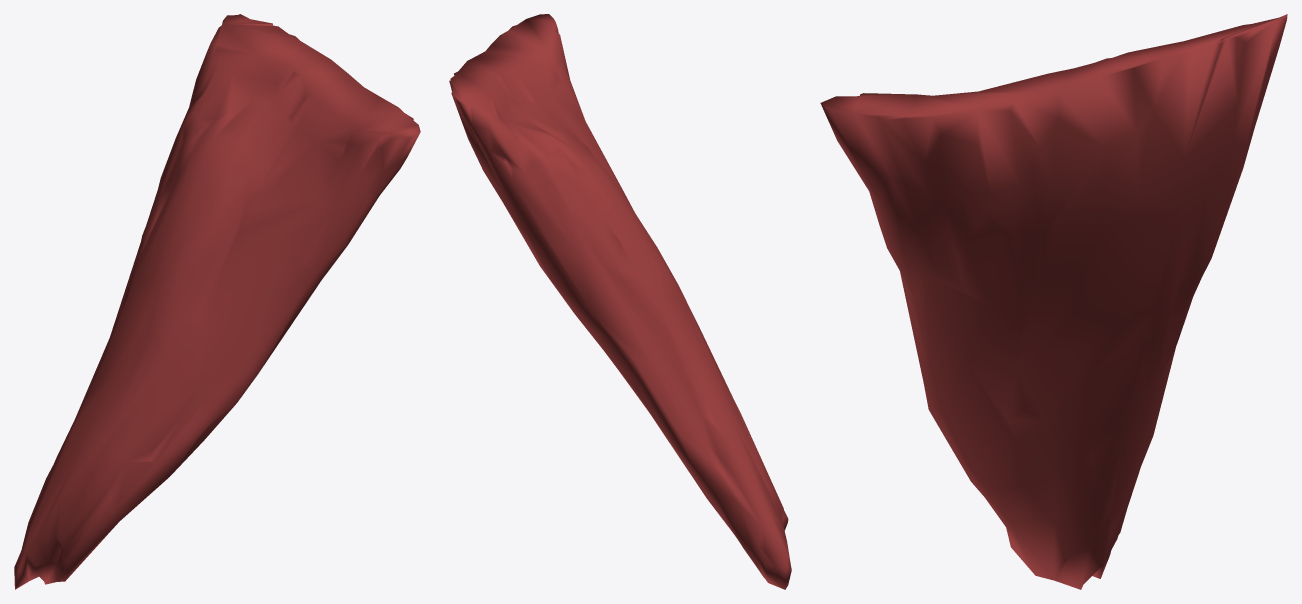
Rendered from rectus-posterior-major-capitis-muscle-l.glb.
The picture shows the model from 3 angles, left to right: view 1: azimuth 30°, elevation 25°; view 2: azimuth 150°, elevation 25°; view 3: azimuth 270°, elevation 25°; orthographic projection. The views are drawn at different scales.
Visible parts, largest first — view 1: Rectus posterior major capitis muscle.l; view 2: Rectus posterior major capitis muscle.l; view 3: Rectus posterior major capitis muscle.l.
Part boxes in pixels (x1,y1,x2,y2): Rectus posterior major capitis muscle.l: [14, 14, 420, 589]; Rectus posterior major capitis muscle.l: [449, 14, 791, 589]; Rectus posterior major capitis muscle.l: [820, 14, 1287, 589].
Bounding box in the file's own units: 0.0353 × 0.0466 × 0.0253.
